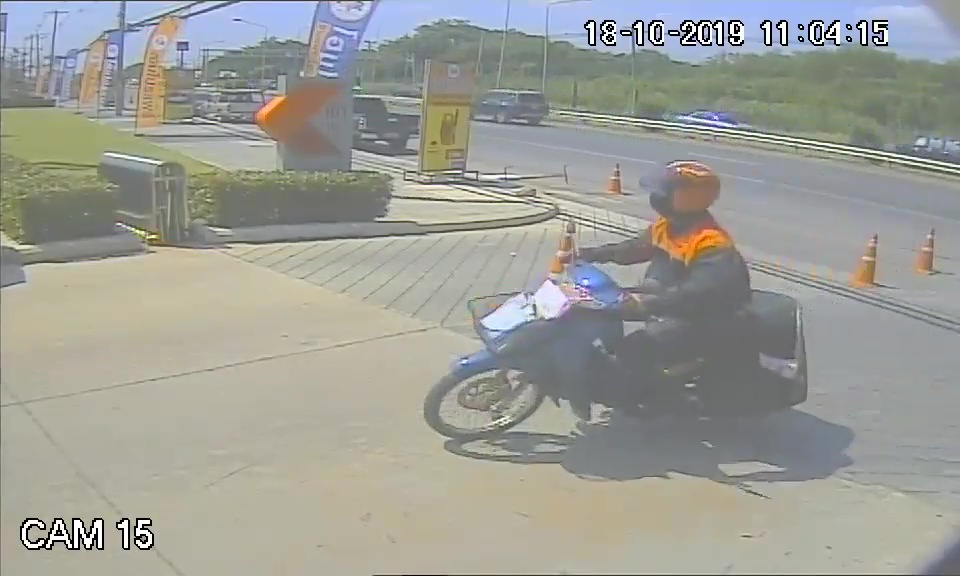motorcycle: (421, 258, 753, 442)
